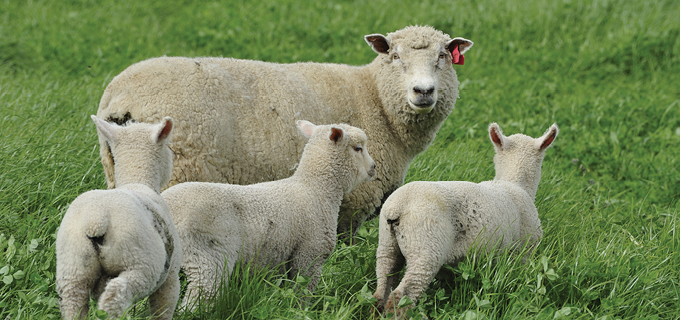sheep: (98, 25, 465, 231), (157, 127, 370, 320), (381, 132, 532, 305), (54, 117, 175, 315)
